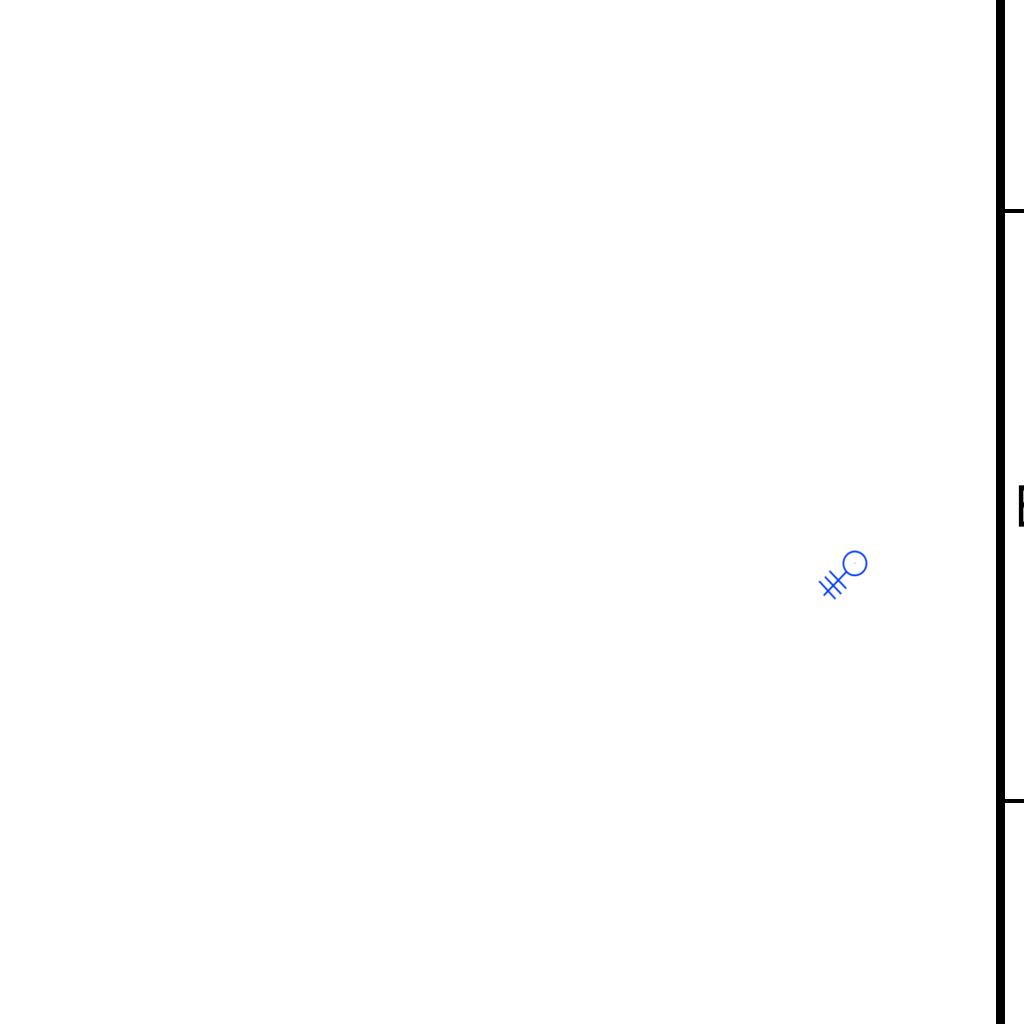Elektroanschluss_allgemein_400V_Geraeteanschlussdose_400V: (818, 550, 876, 606)
